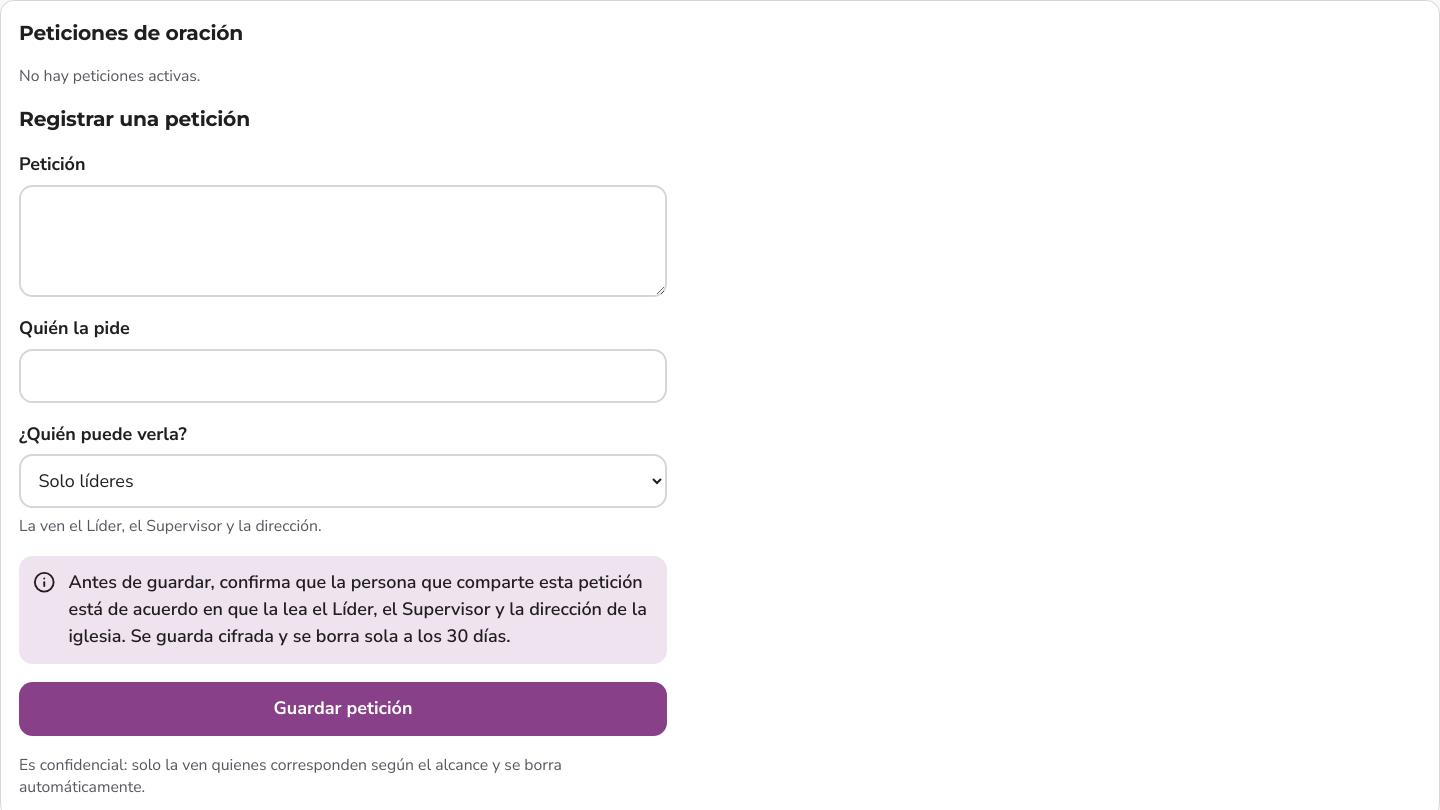
Test: PeticionesPanel › registra con el origen y la reunión, y solo muestra los campos activos
In the text box labelled "Petición": (343, 241) [19, 185, 667, 297], type "Por mi trabajo"
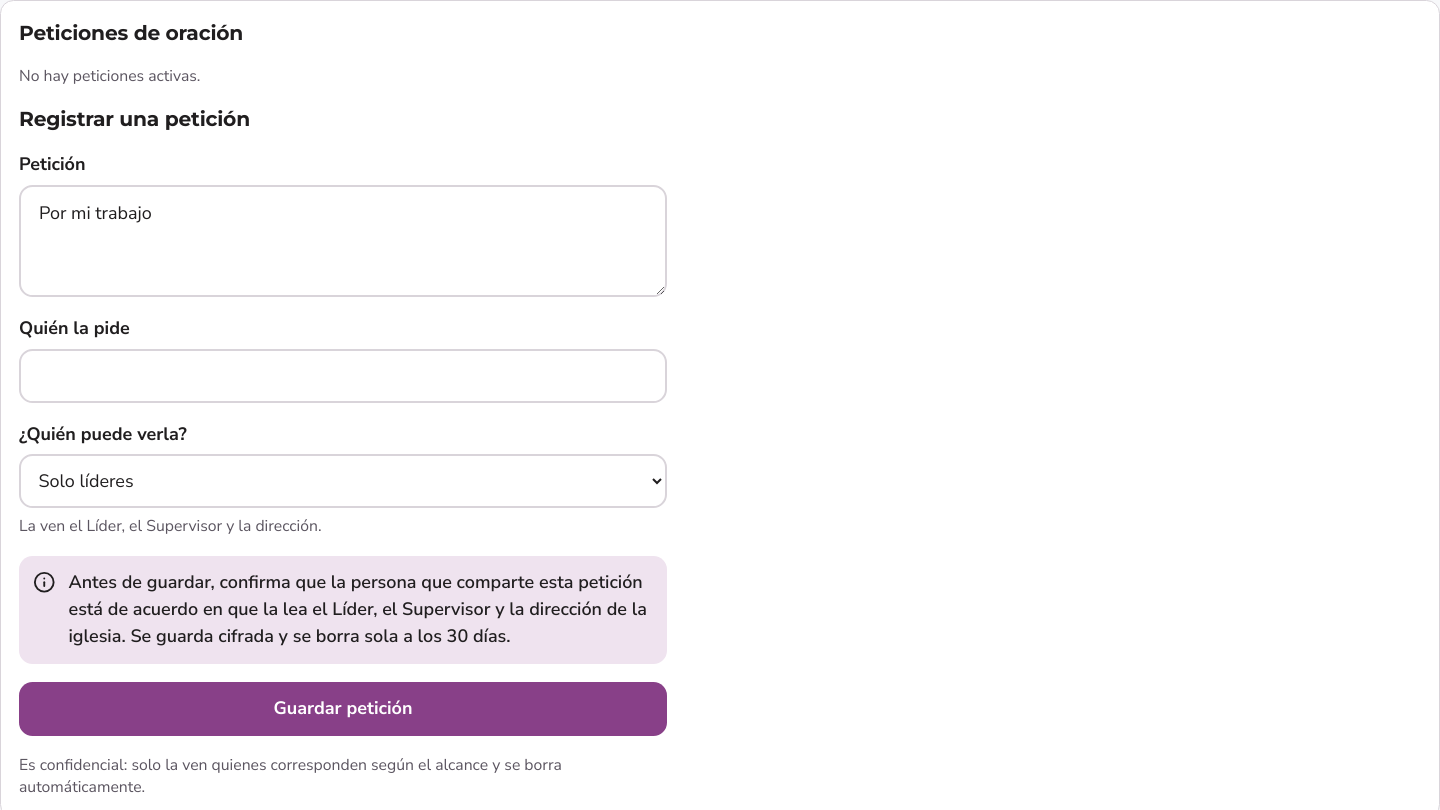
Click the button "Guardar petición": (343, 709) [19, 682, 667, 736]
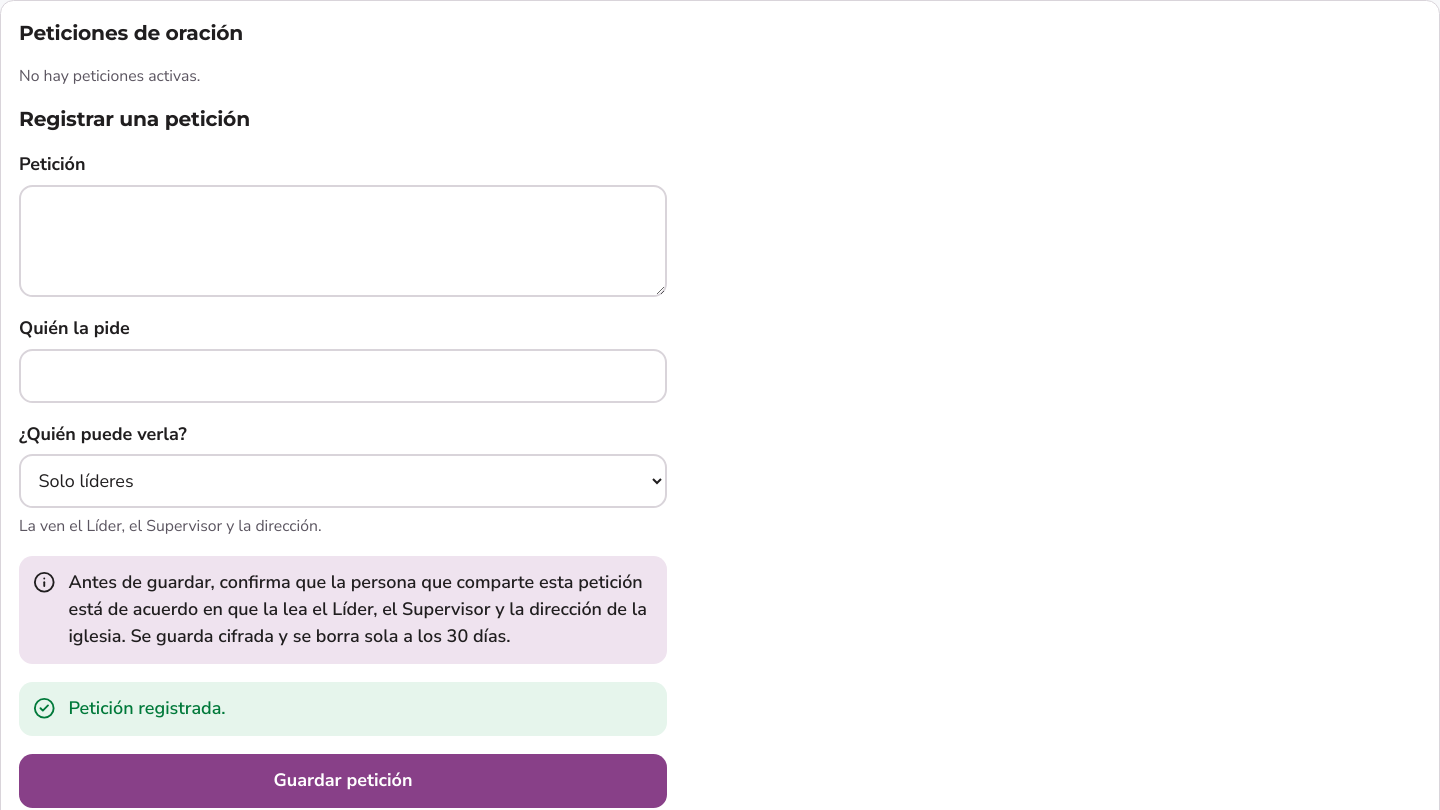
Result: the text "Petición registrada." is shown at [68, 695, 226, 722]
